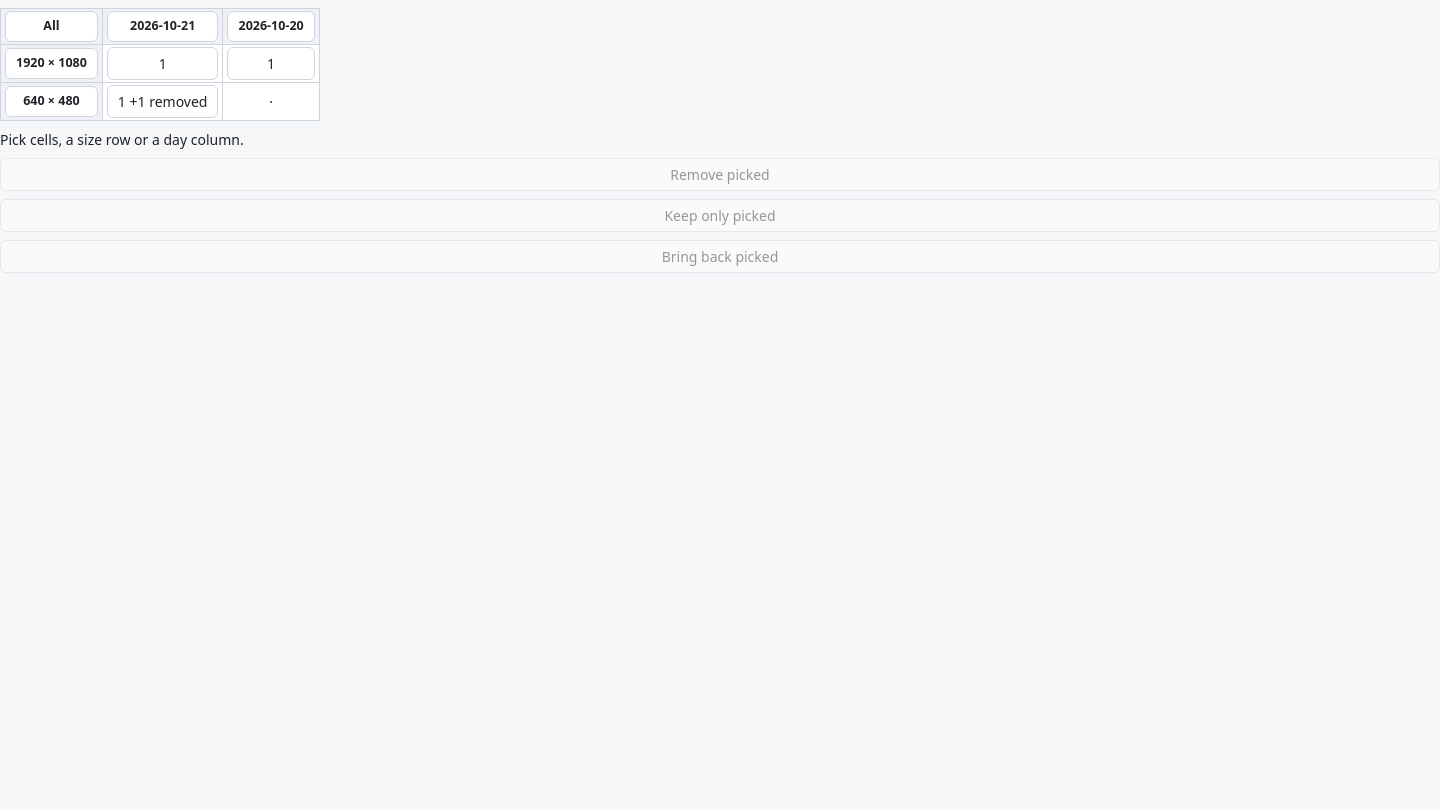
it: Cancel leaves everything as it is
Expected: the element with test id "ingest-table" is shown, x1=0 y1=8 x2=1439 y2=273
Click the button with aria-label "Pick everything": (51, 26) x1=5 y1=11 x2=98 y2=42
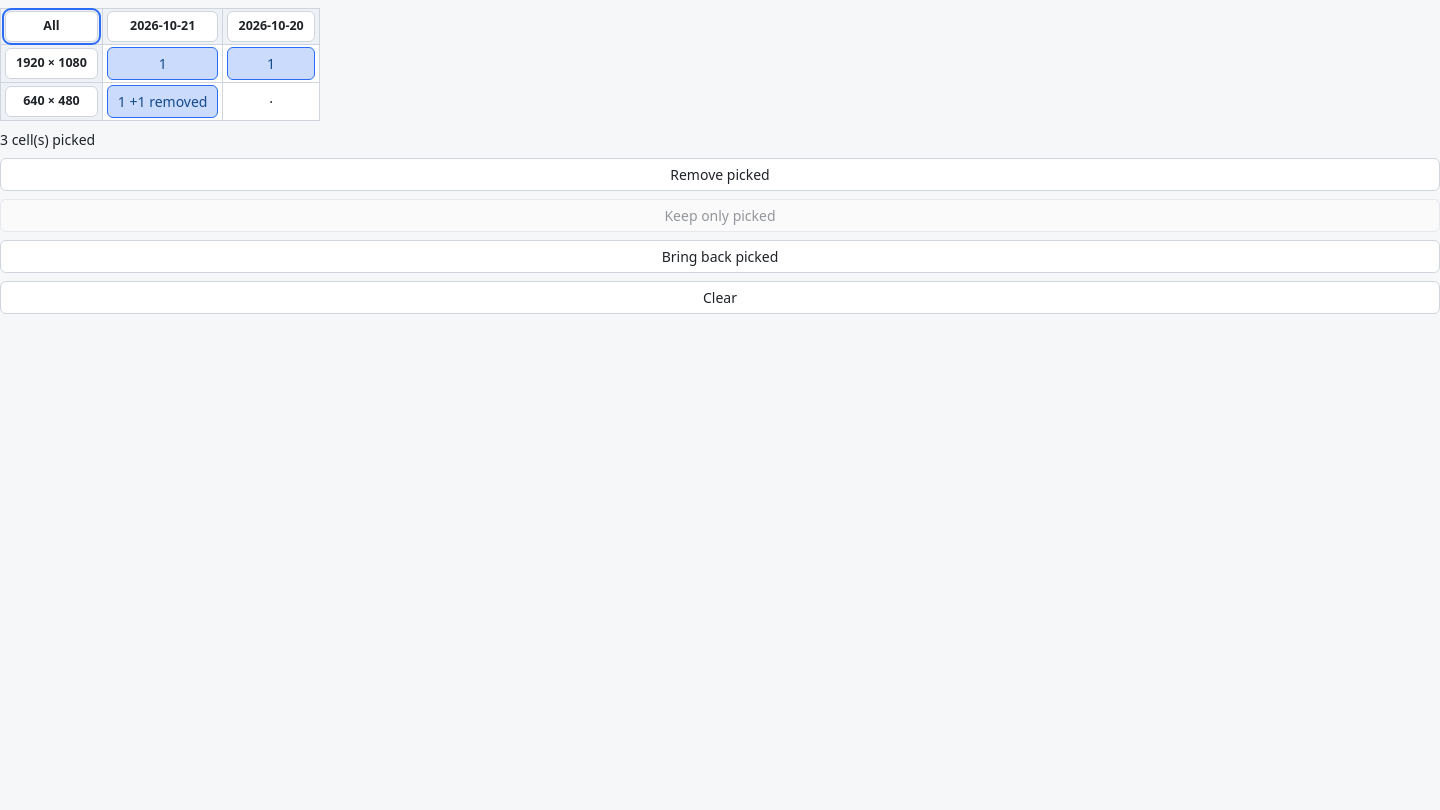
Click the button "Remove picked": (720, 174) x1=0 y1=158 x2=1439 y2=191
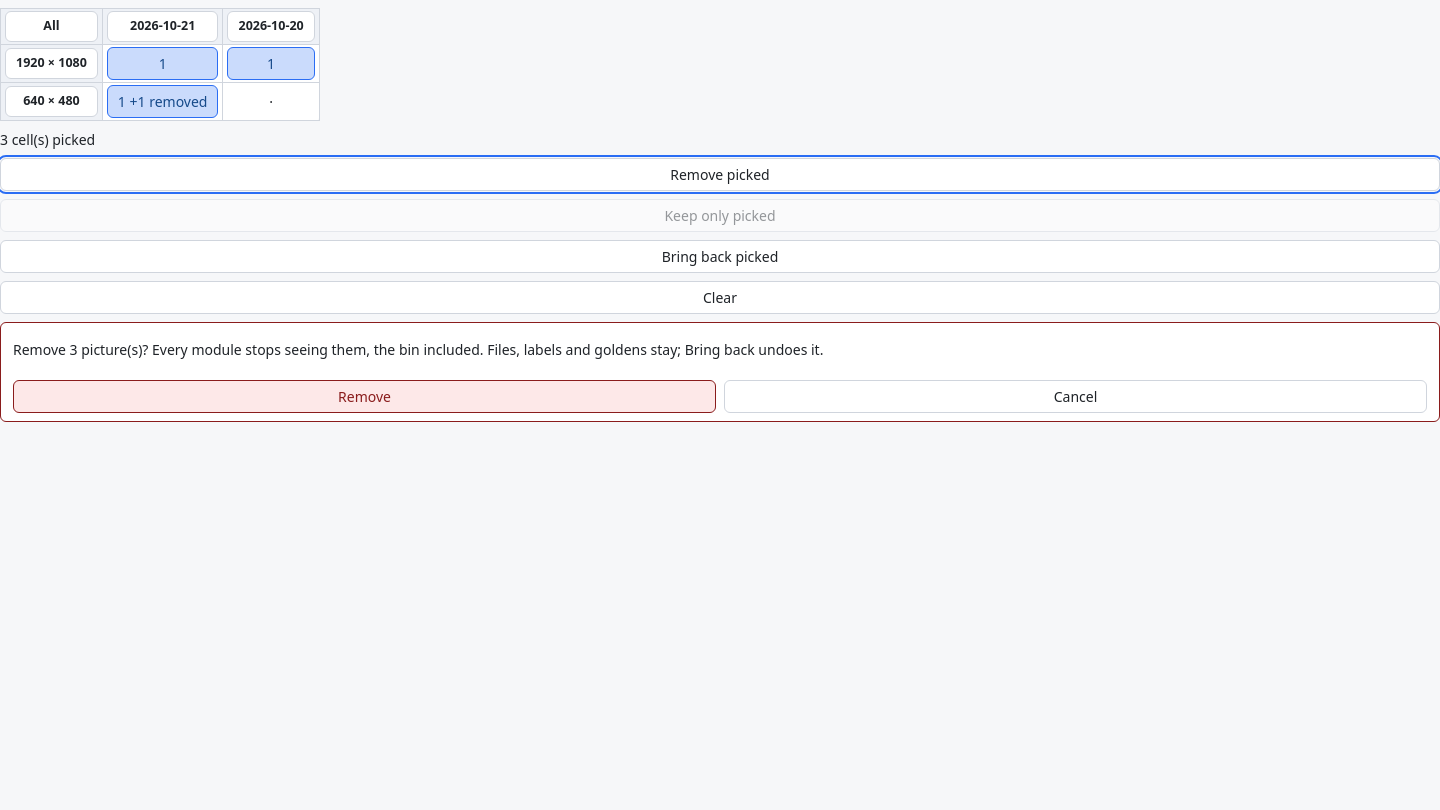
Click the button "Cancel": (1076, 396) x1=724 y1=380 x2=1427 y2=413
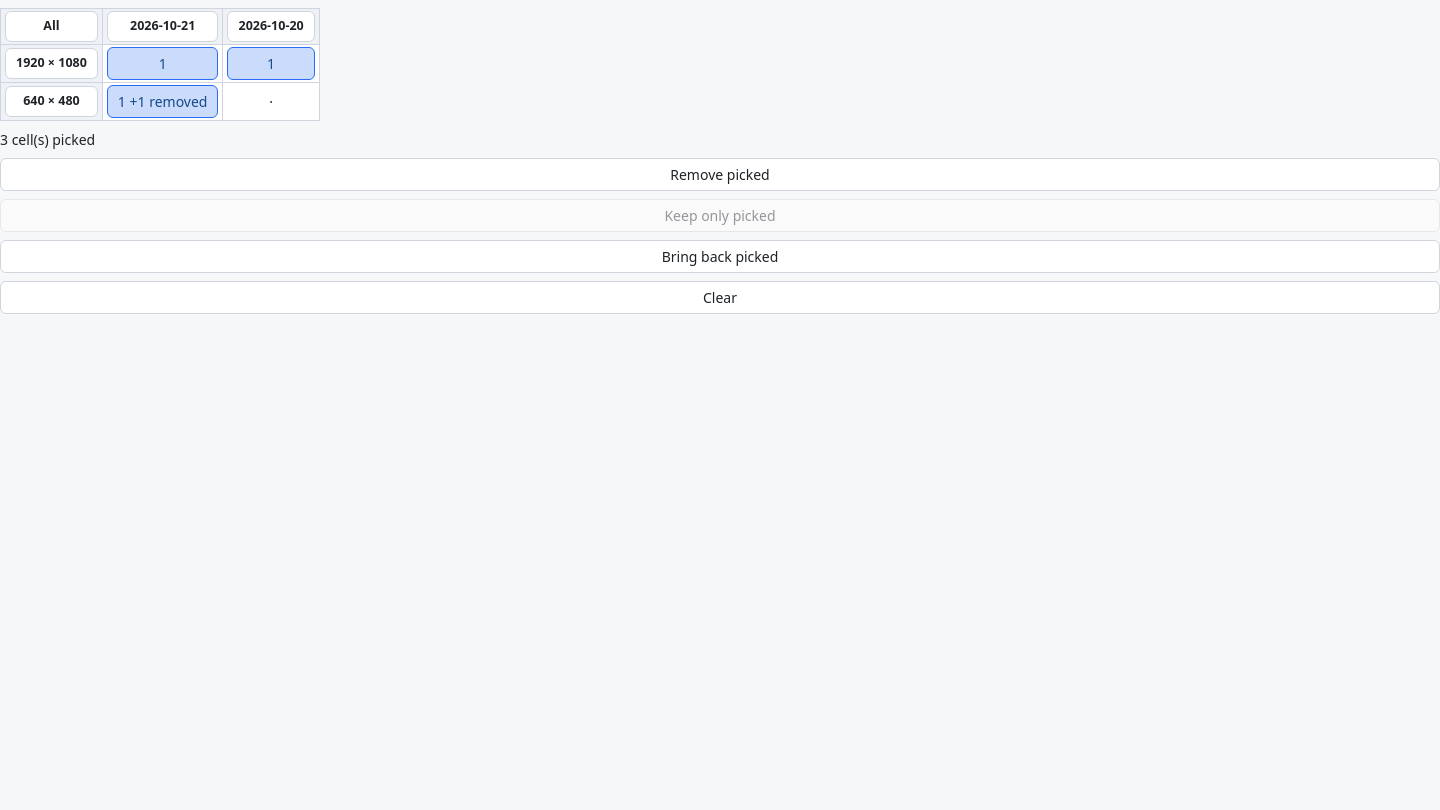
Expected: the dialog is gone
